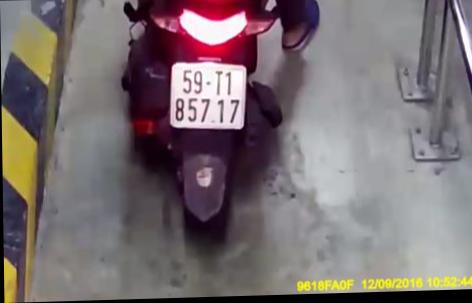LP: (169, 61, 247, 133)
